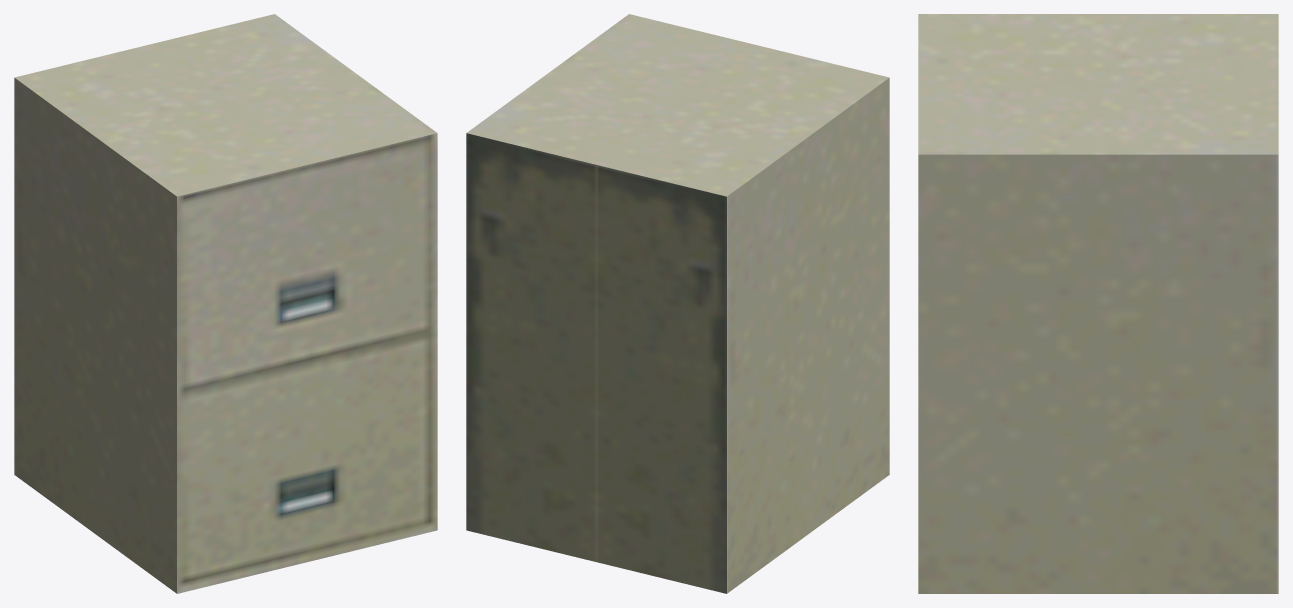
The model's file is file_cabinet_smallest.obj.
3 views of the same model, side by side, from view 1: azimuth 30°, elevation 25°; view 2: azimuth 150°, elevation 25°; view 3: azimuth 270°, elevation 25° (orthographic). The views are drawn at different scales.
Parts seen in each view (by area): view 1: file_cabinet_smallest; view 2: file_cabinet_smallest; view 3: file_cabinet_smallest.
Boxes of the visible parts, box(x1,y1,x2,y2) form: file_cabinet_smallest: box(14, 14, 437, 593); file_cabinet_smallest: box(466, 14, 889, 593); file_cabinet_smallest: box(918, 14, 1278, 593).
Bounding box in the file's own units: 0.4847 × 0.7064 × 0.5246.
